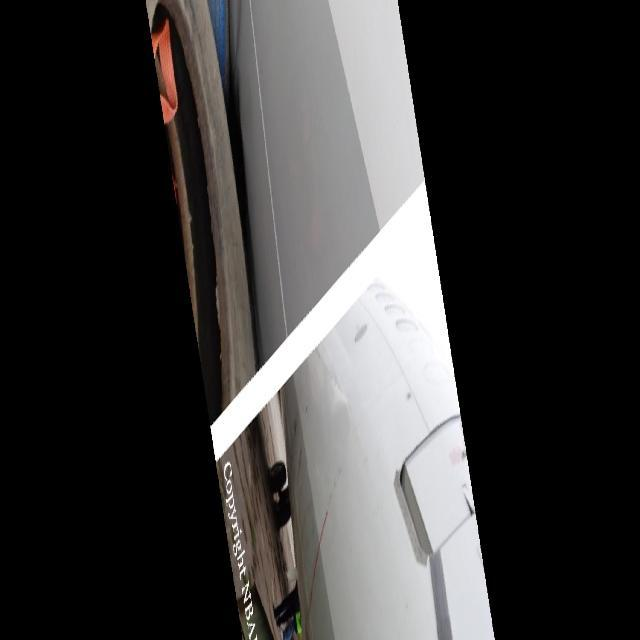dent: (225, 2, 252, 169), (329, 393, 356, 446)
